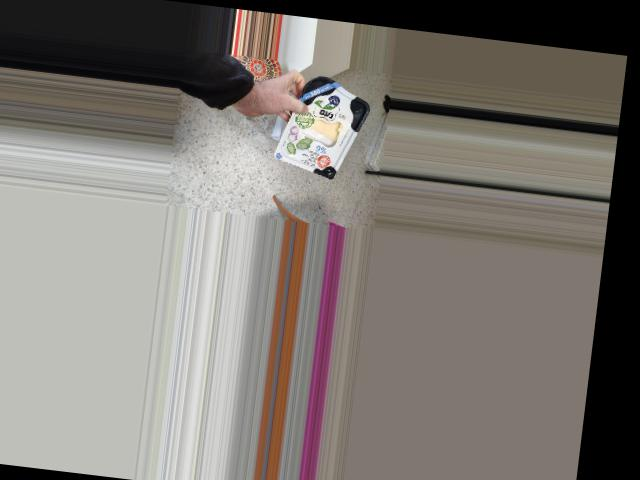cheese: (281, 76, 359, 179)
